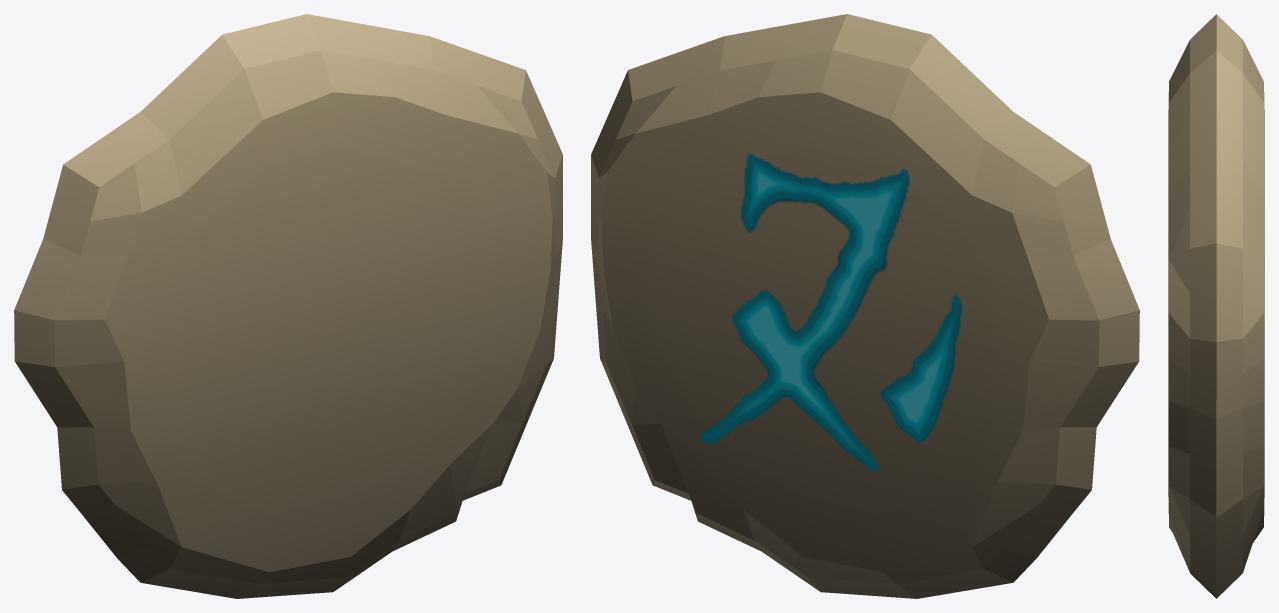
Rendered from rune_model_energy.fbx.
The picture shows the model from 3 angles, left to right: view 1: azimuth 30°, elevation 25°; view 2: azimuth 150°, elevation 25°; view 3: azimuth 270°, elevation 25°; orthographic projection. The views are drawn at different scales.
Visible parts, largest first — view 1: Cube.002; view 2: Cube.002; view 3: Cube.002.
Boxes of the visible parts, <box> form: Cube.002: <box>14,14,562,598</box>; Cube.002: <box>591,14,1139,598</box>; Cube.002: <box>1168,14,1264,598</box>.
Size of the model in its own units: 58.93 by 60 by 10.1.
